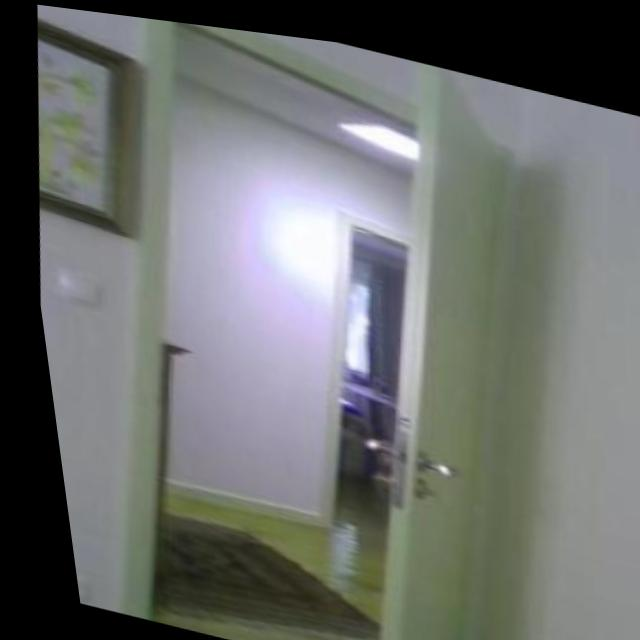door_handle: (410, 439, 462, 478)
